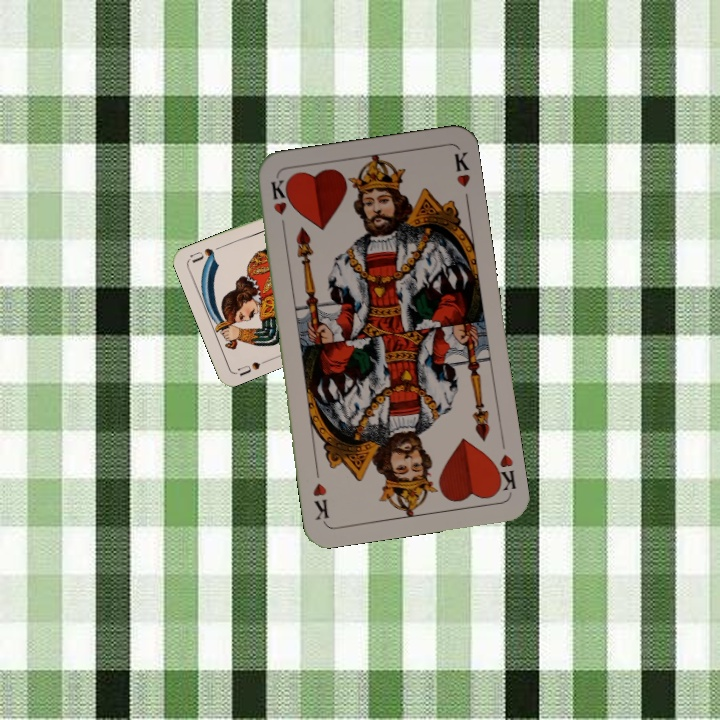HK: (488, 450, 519, 496), (267, 175, 290, 235)
SU: (232, 355, 271, 379)
